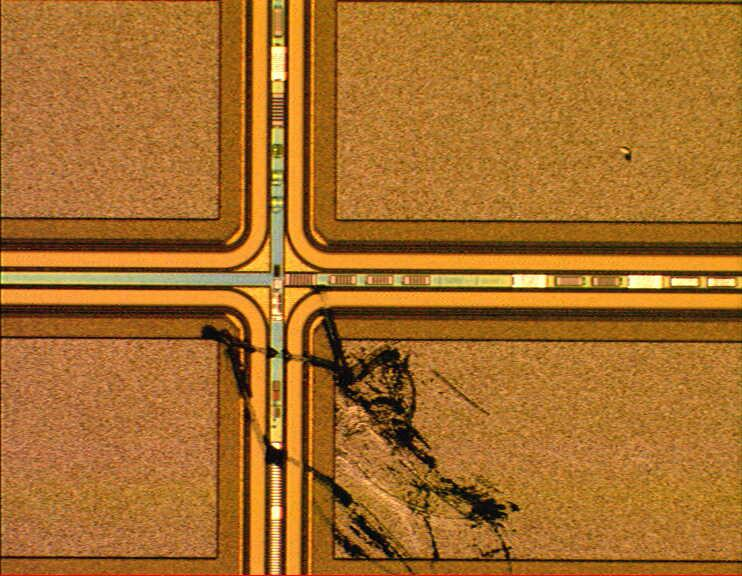SCRATCH: (191, 275, 526, 576)
